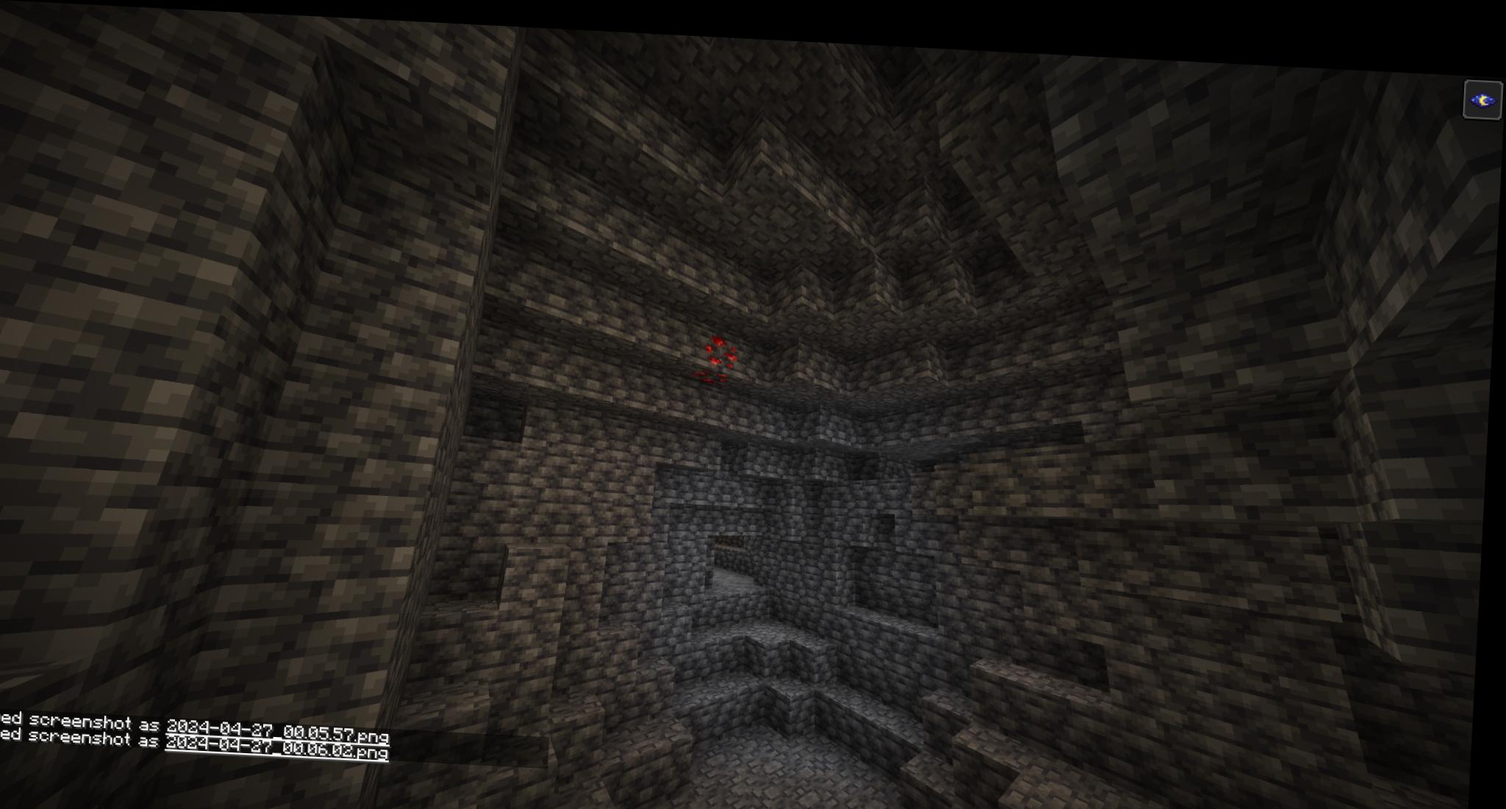redstone ore: (701, 321, 747, 377)
